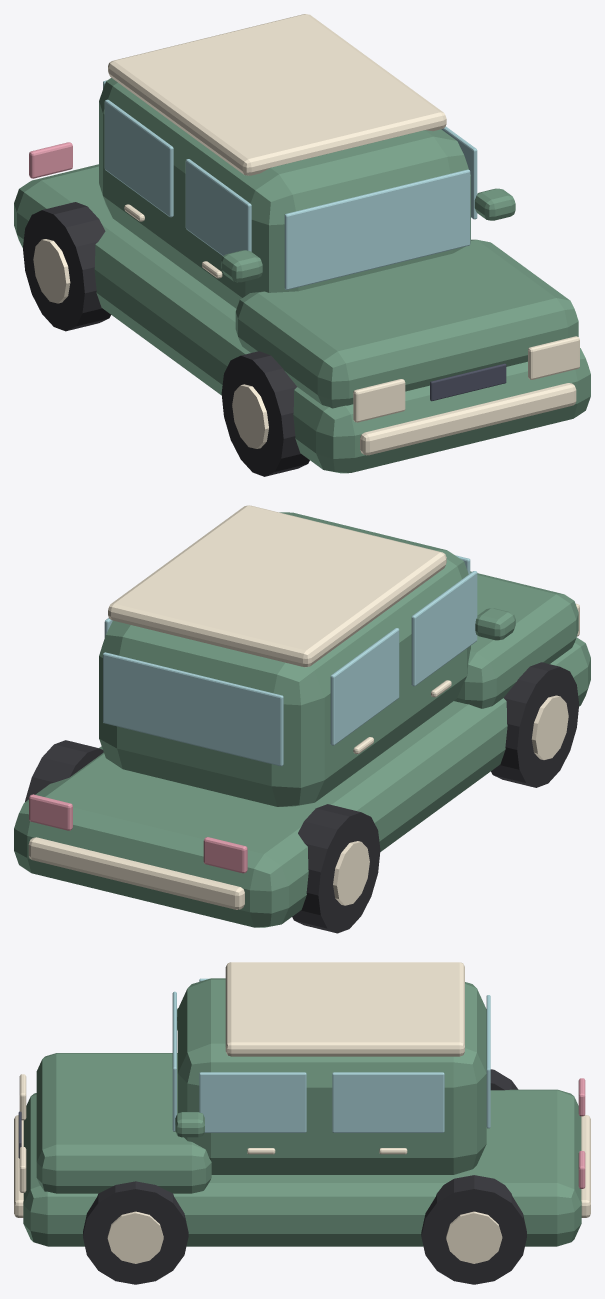
The model's file is car_sage.glb.
3 renders of one model, top to bottom at view 1: azimuth 30°, elevation 25°; view 2: azimuth 150°, elevation 25°; view 3: azimuth 270°, elevation 25°, orthographic. The views are drawn at different scales.
Parts seen in each view (by area): view 1: car_sage_Mesh; view 2: car_sage_Mesh; view 3: car_sage_Mesh.
Boxes of the visible parts, left/top/right/bottom form: car_sage_Mesh: left=14, top=14, right=590, bottom=476; car_sage_Mesh: left=14, top=505, right=590, bottom=933; car_sage_Mesh: left=14, top=962, right=590, bottom=1284.
Size of the model in its own units: 1.95 by 1.6 by 3.77.
